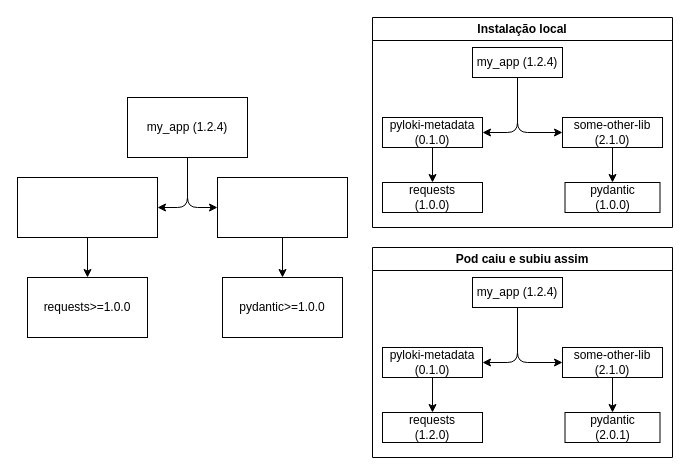
Image size: 690x475. Some labels were removed from this diagram. Each missing label, with the centre of its shape:
"pyloki-metadata>=0.1.0" goes at (x=87, y=207).
"some-other-lib>=2.1.0" goes at (x=282, y=207).
